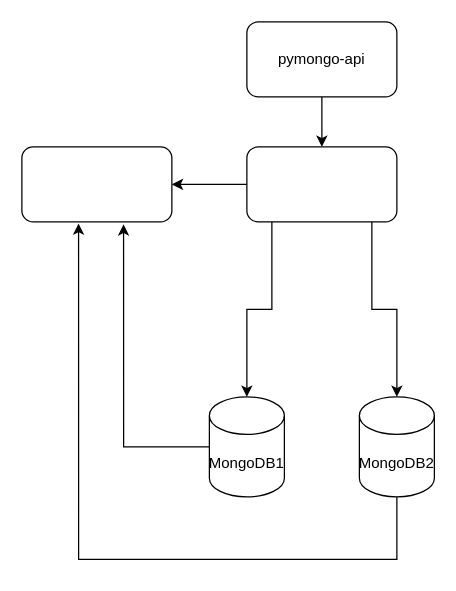
Some shapes in this 456 by 591 pixel diagram are drawn without their labels. Here are the shapes that lost their labels. From the top down, the centre of each, then its label:
the point at 96,184: сервер конфигурации
the point at 321,184: роутер
